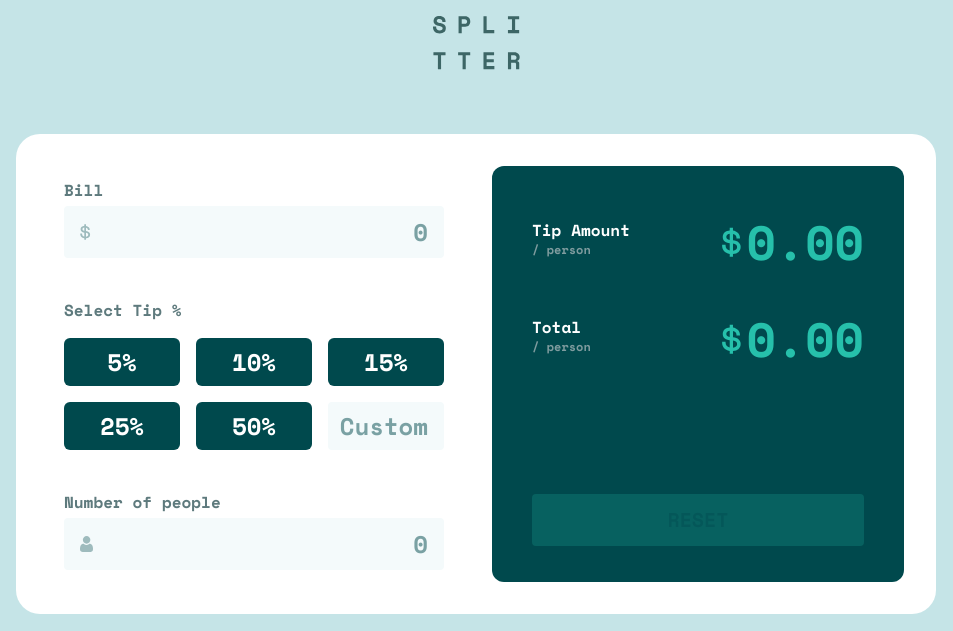
Test case: Tip Calculator Full Suite › should clear all values when reset is clicked
The image size is (953, 631).
Type "100" into the number field labelled "Bill" at (254,232), box [64,206,444,258]
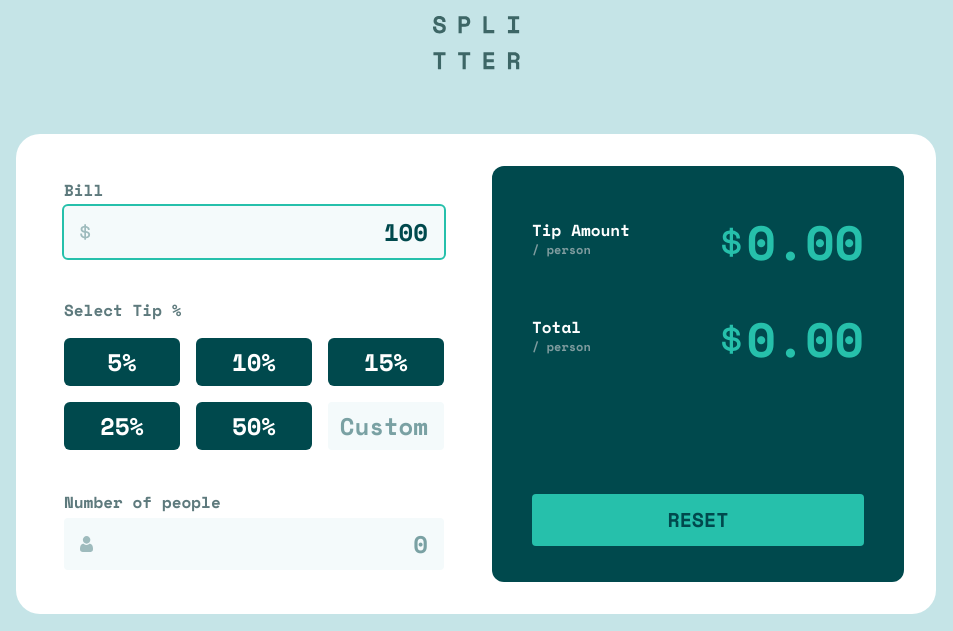
Click the button "15%" at (386,362), box [328,338,444,386]
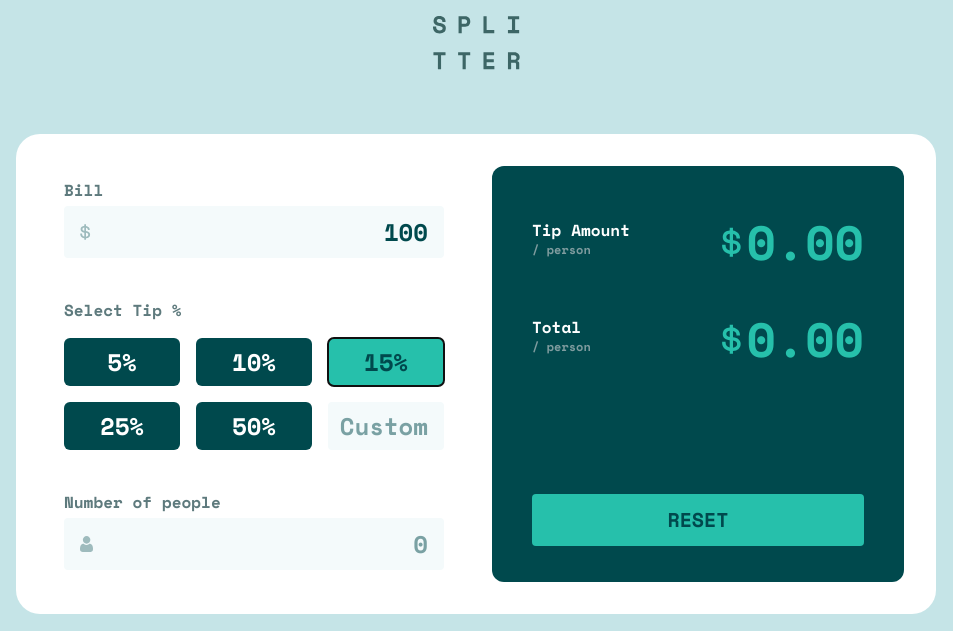
Type "2" into the number field labelled "Number of people" at (254,544), box [64,518,444,570]
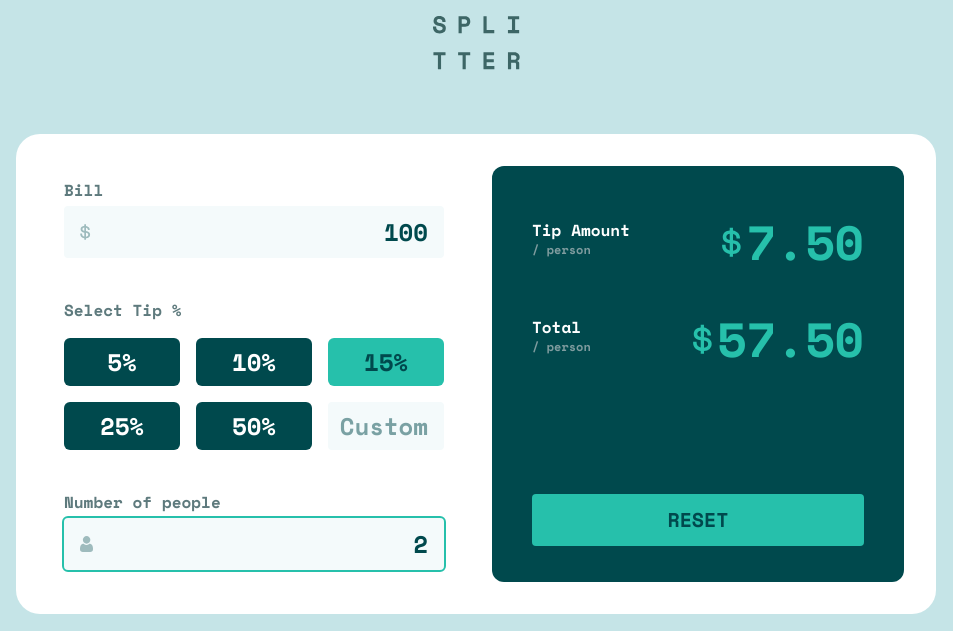
Click the button "reset" at (698,520), box [532,494,864,546]
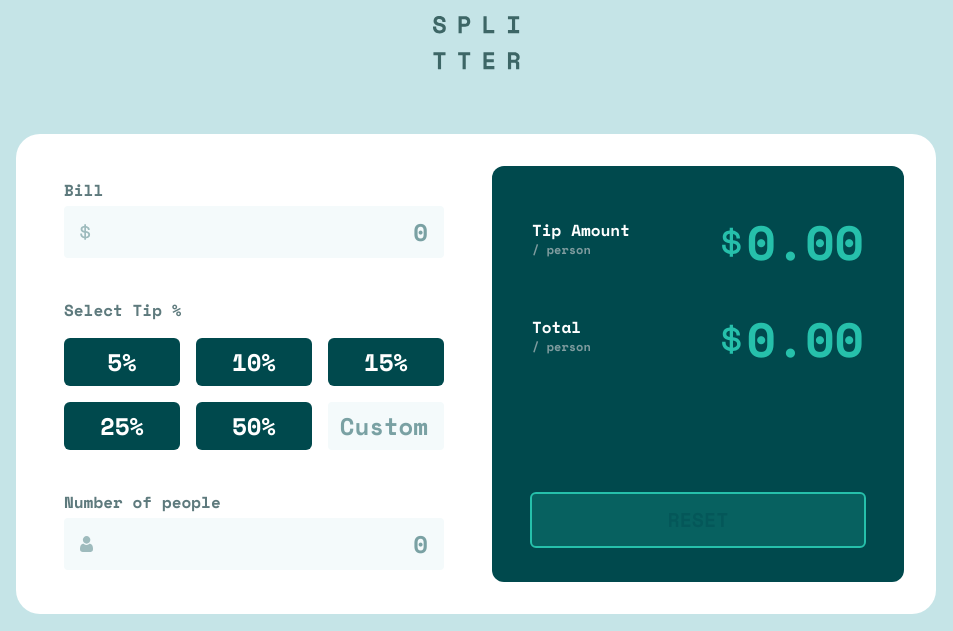
Check: the element with test id "total-amount" reads "0.00", box [746,315,864,374]
Check: the number field labelled "Bill" is not empty, box [64,206,444,258]
